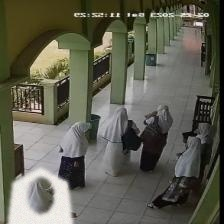Mukena: (6, 167, 74, 224)
